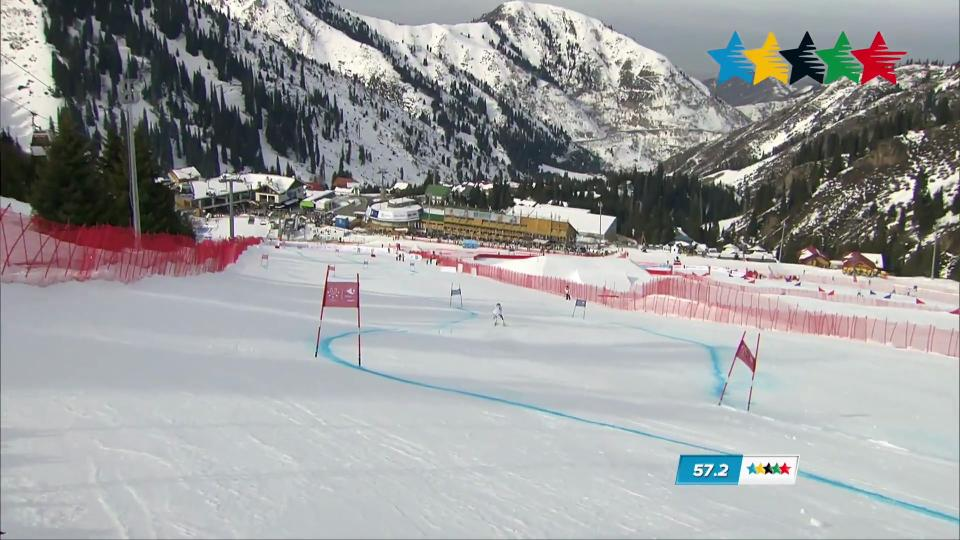gate: (303, 265, 336, 367), (352, 263, 368, 380)
